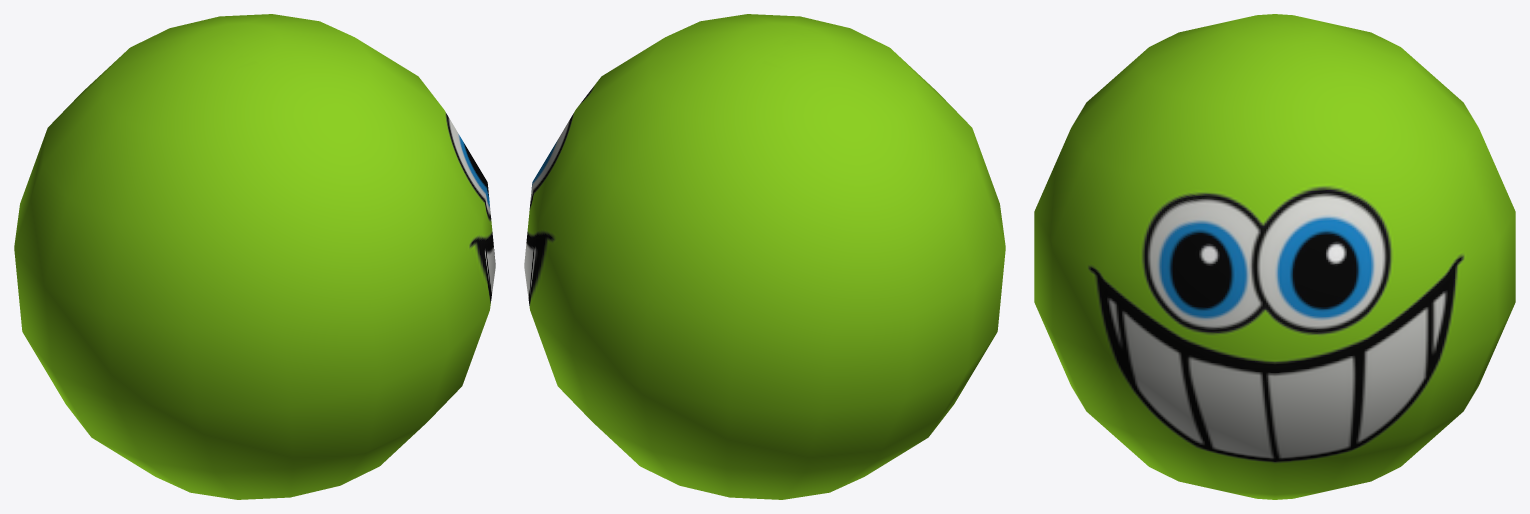
File: green_ball.glb
The picture shows the model from 3 angles, left to right: view 1: azimuth 30°, elevation 25°; view 2: azimuth 150°, elevation 25°; view 3: azimuth 270°, elevation 25°; orthographic projection.
Visible parts, largest first — view 1: 0; view 2: 0; view 3: 0.
Boxes of the visible parts, x1,y1,x2,y2 form: 0: [14, 14, 495, 499]; 0: [524, 14, 1005, 499]; 0: [1034, 14, 1515, 499].
Bounding box in the file's own units: 1.01 × 1.01 × 0.9995.
Materials: 1 (1 with a texture image).
